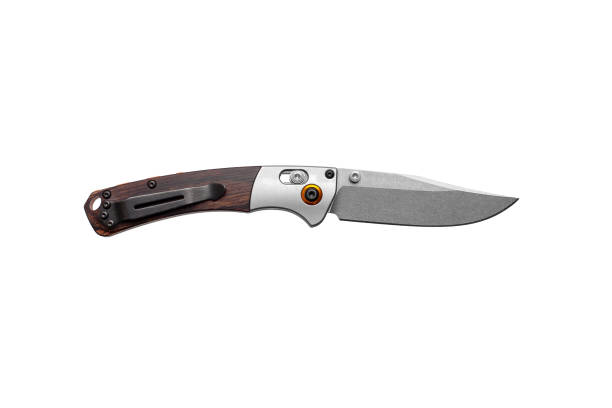knife: (81, 162, 520, 239)
